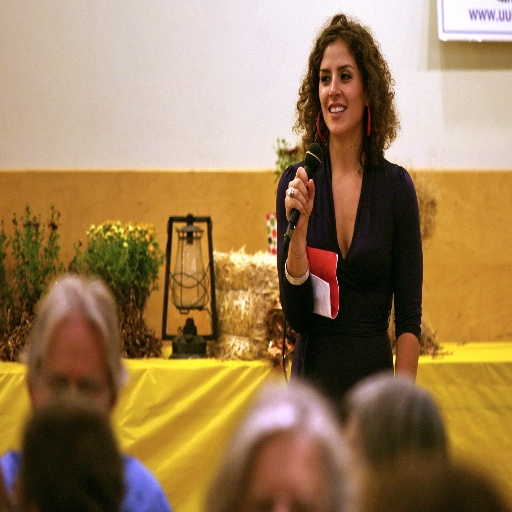hand: (288, 165, 320, 232)
